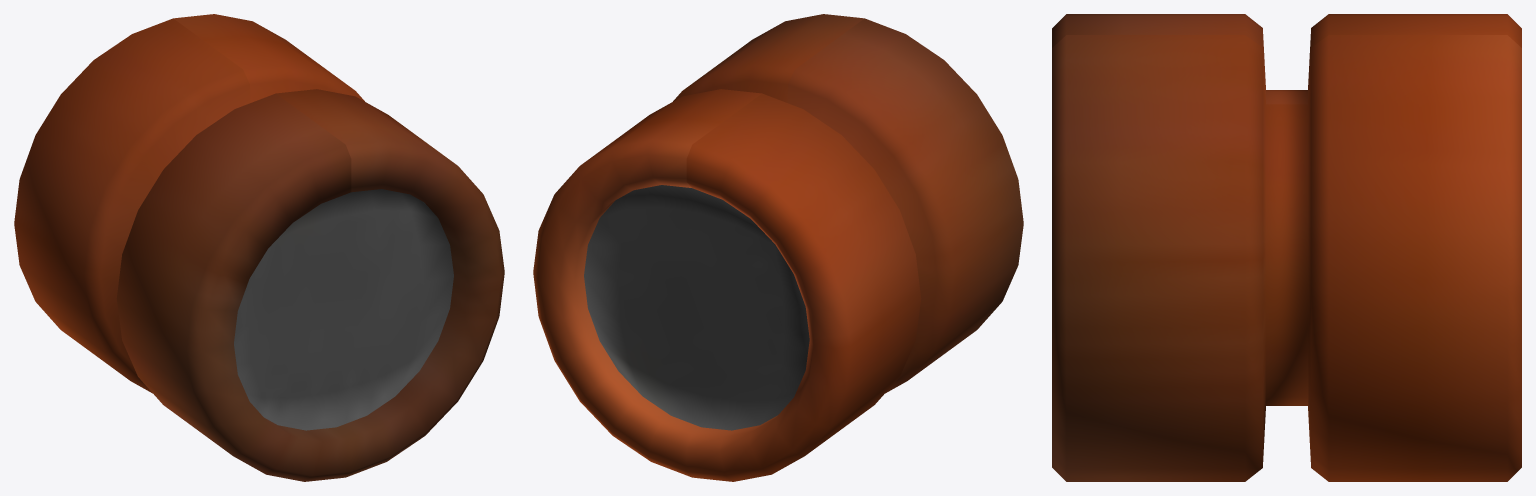
The model's file is thrust_wheel.glb.
3 views of the same model, side by side, from view 1: azimuth 30°, elevation 25°; view 2: azimuth 150°, elevation 25°; view 3: azimuth 270°, elevation 25° (orthographic). The views are drawn at different scales.
Parts seen in each view (by area): view 1: thrust_wheel.001; view 2: thrust_wheel.001; view 3: thrust_wheel.001.
Part boxes in pixels (x1,y1,x2,y2): thrust_wheel.001: (14,14,504,481); thrust_wheel.001: (533,14,1023,481); thrust_wheel.001: (1052,14,1521,481).
Size of the model in its own units: 0.24 by 0.24 by 0.24.
Materials: 1 (1 with a texture image).
